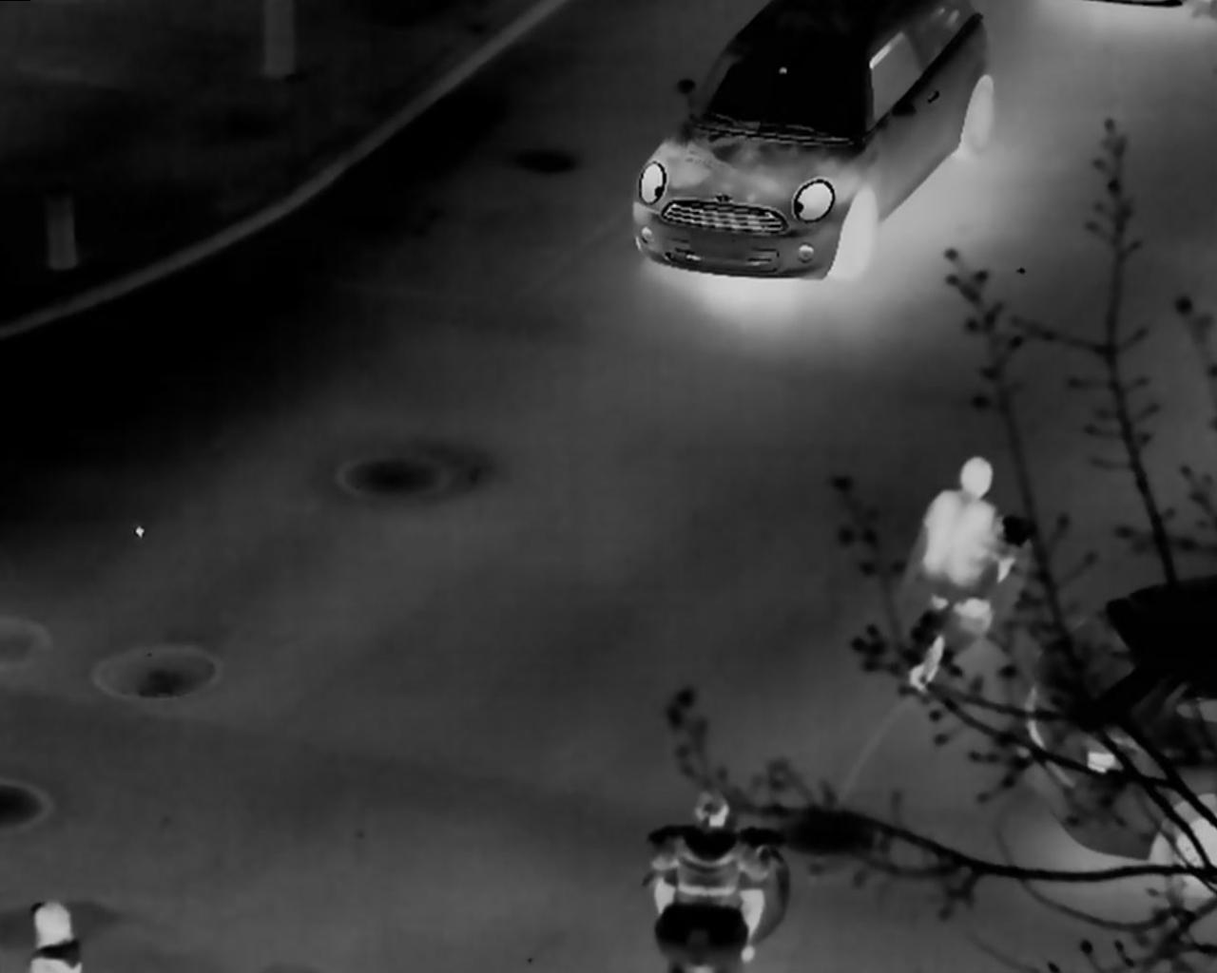person: (913, 454, 1018, 668), (656, 793, 770, 954)
